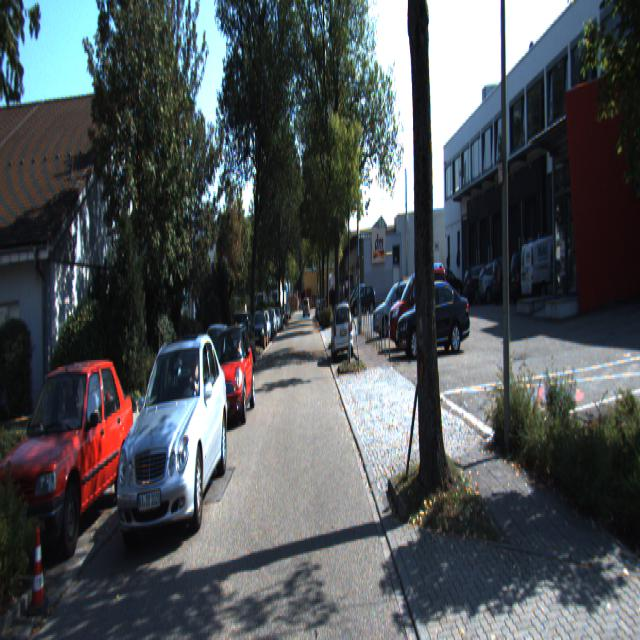Car: (0, 346, 136, 572), (110, 333, 230, 553), (394, 279, 472, 358), (388, 262, 452, 351), (519, 232, 587, 311), (206, 319, 255, 427), (331, 301, 354, 366)
